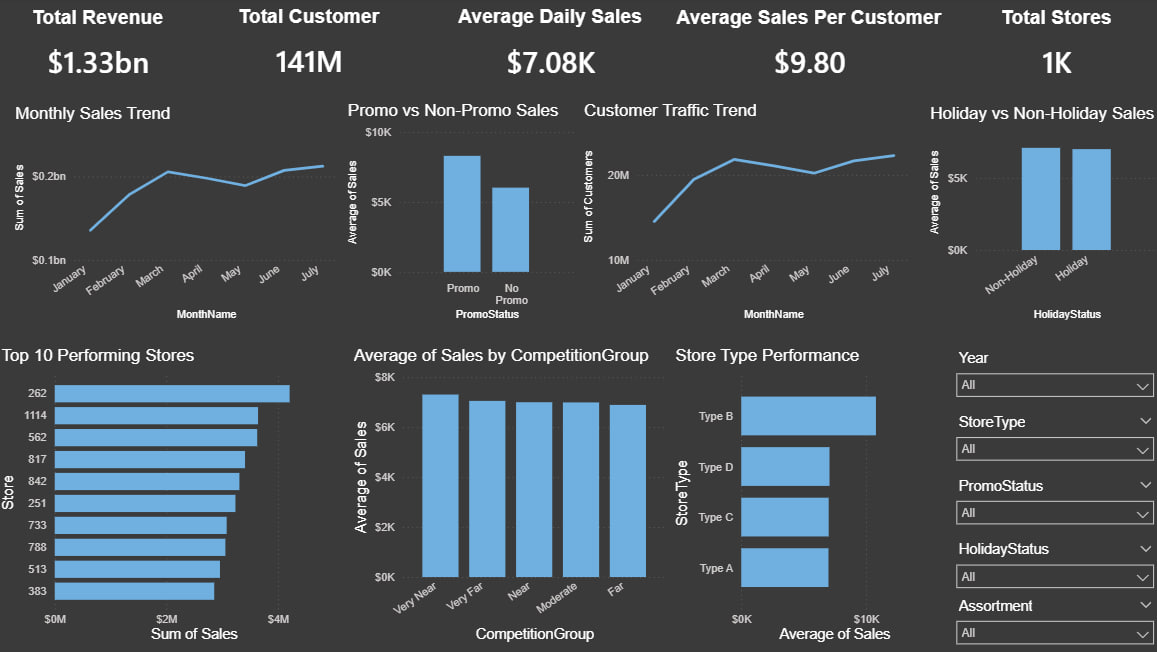

The page's visual inventory and layout, read from the dashboard file:
{"tool":"powerbi","page":{"name":"Page 1","canvas":[1280,720],"ordinal":0},"visuals":[{"type":"cardVisual","title":"Total Revenue","fields":{"Data":["rossmann_cleaned_data.Total Revenue"]},"box":[15.1,11,190.7,91.9],"z":0},{"type":"cardVisual","title":"Average Daily Sales","fields":{"Data":["rossmann_cleaned_data.Avg Daily Sales"]},"box":[499.5,9.6,215.4,93.3],"z":1000},{"type":"cardVisual","title":"Average Sales Per Customer","fields":{"Data":["rossmann_cleaned_data.Avg Sales Per Customer"]},"box":[739.6,11,303.3,91.9],"z":2000},{"type":"cardVisual","title":"Total Stores","fields":{"Data":["rossmann_cleaned_data.Total Stores"]},"box":[1067.6,11,190.7,91.9],"z":3000},{"type":"lineChart","title":"Monthly Sales Trend","fields":{"Category":["rossmann_cleaned_data.MonthName"],"Y":["Sum(rossmann_cleaned_data.Sales)"]},"box":[15.1,116.6,365,242.9],"z":4000},{"type":"clusteredColumnChart","title":"Promo vs Non-Promo Sales","fields":{"Category":["rossmann_cleaned_data.PromoStatus"],"Y":["Avg(rossmann_cleaned_data.Sales)"]},"box":[380.1,113.9,259.3,245.6],"z":5000},{"type":"clusteredColumnChart","title":"Holiday vs Non-Holiday Sales","fields":{"Category":["rossmann_cleaned_data.HolidayStatus"],"Y":["Avg(rossmann_cleaned_data.Sales)"]},"box":[1019.6,116.6,260.7,242.9],"z":6000},{"type":"barChart","title":"Store Type Performance","fields":{"Category":["rossmann_cleaned_data.StoreType"],"Y":["Avg(rossmann_cleaned_data.Sales)"]},"box":[739.6,382.8,303.3,330.7],"z":7000},{"type":"barChart","title":"Top 10 Performing Stores","fields":{"Category":["rossmann_cleaned_data.Store"],"Y":["Sum(rossmann_cleaned_data.Sales)"]},"box":[0,382.8,387,330.7],"z":8000},{"type":"lineChart","title":"Customer Traffic Trend","fields":{"Category":["rossmann_cleaned_data.MonthName"],"Y":["Sum(rossmann_cleaned_data.Customers)"]},"box":[639.5,113.9,367.8,245.6],"z":9000},{"type":"clusteredColumnChart","fields":{"Category":["rossmann_cleaned_data.CompetitionGroup"],"Y":["Avg(rossmann_cleaned_data.Sales)"]},"box":[387,382.8,352.7,330.7],"z":10000},{"type":"slicer","fields":{"Values":["rossmann_cleaned_data.Year"]},"box":[1042.9,382.8,237.4,70],"z":11000},{"type":"slicer","fields":{"Values":["rossmann_cleaned_data.StoreType"]},"box":[1042.9,452.8,237.4,70],"z":12000},{"type":"slicer","fields":{"Values":["rossmann_cleaned_data.PromoStatus"]},"box":[1042.9,522.8,237.4,70],"z":13000},{"type":"slicer","fields":{"Values":["rossmann_cleaned_data.HolidayStatus"]},"box":[1042.9,592.8,237.4,61.7],"z":14000},{"type":"slicer","fields":{"Values":["rossmann_cleaned_data.Assortment"]},"box":[1042.9,654.5,237.4,59],"z":15000},{"type":"cardVisual","title":"Total Customer","fields":{"Data":["rossmann_cleaned_data.Total Customers"]},"box":[247,9.6,190.7,91.9],"z":15001}]}

Visuals, with their boxes in screenshot pixels (x1, y1, x2, y2), scaled from the page's 1280x720 canvas onto the 1157x652 screenshot:
"Total Revenue" cardVisual: <box>14,10,186,93</box>
"Average Daily Sales" cardVisual: <box>452,9,646,93</box>
"Average Sales Per Customer" cardVisual: <box>669,10,943,93</box>
"Total Stores" cardVisual: <box>965,10,1137,93</box>
"Monthly Sales Trend" lineChart: <box>14,106,344,326</box>
"Promo vs Non-Promo Sales" clusteredColumnChart: <box>344,103,578,326</box>
"Holiday vs Non-Holiday Sales" clusteredColumnChart: <box>922,106,1156,326</box>
"Store Type Performance" barChart: <box>669,347,943,646</box>
"Top 10 Performing Stores" barChart: <box>0,347,350,646</box>
"Customer Traffic Trend" lineChart: <box>578,103,911,326</box>
clusteredColumnChart - rossmann_cleaned_data.CompetitionGroup x Avg(rossmann_cleaned_data.Sales): <box>350,347,669,646</box>
slicer - rossmann_cleaned_data.Year: <box>943,347,1156,410</box>
slicer - rossmann_cleaned_data.StoreType: <box>943,410,1156,473</box>
slicer - rossmann_cleaned_data.PromoStatus: <box>943,473,1156,537</box>
slicer - rossmann_cleaned_data.HolidayStatus: <box>943,537,1156,593</box>
slicer - rossmann_cleaned_data.Assortment: <box>943,593,1156,646</box>
"Total Customer" cardVisual: <box>223,9,396,92</box>
